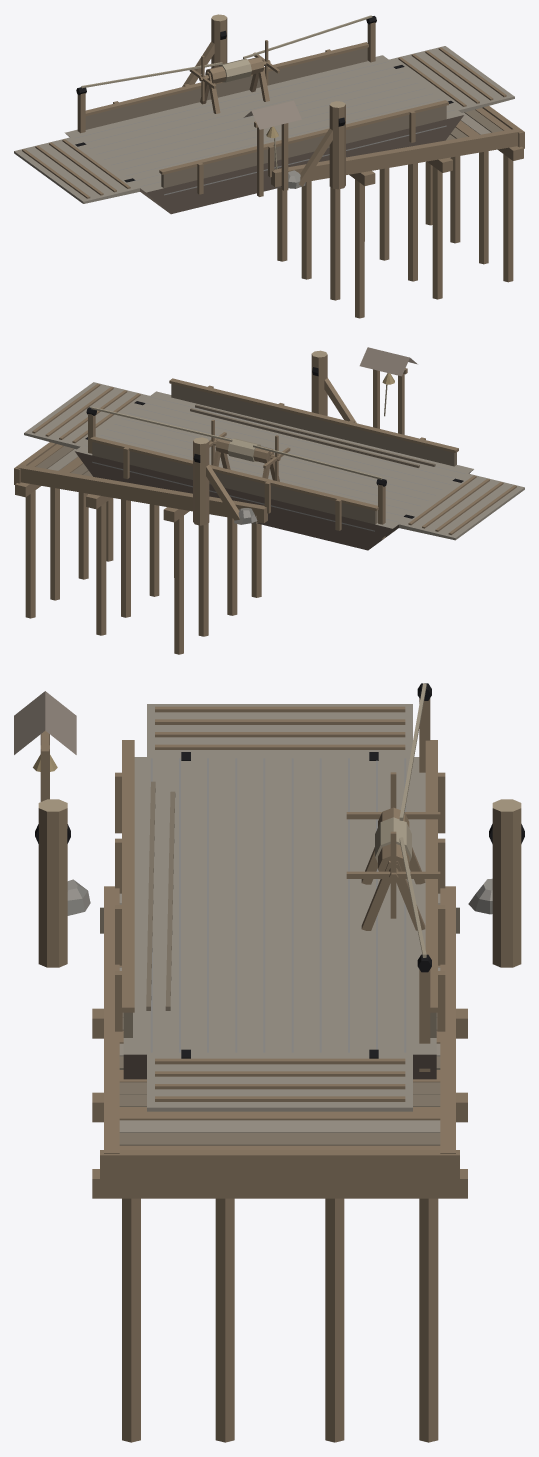
File: wasser_faehre.glb
3 views of the same model, one above another, from view 1: azimuth 30°, elevation 25°; view 2: azimuth 150°, elevation 25°; view 3: azimuth 270°, elevation 25° (orthographic). The views are drawn at different scales.
Visible parts, largest first — view 1: Faehre, Anlegesteg, Klappe_A, Klappe_B; view 2: Faehre, Anlegesteg, Klappe_A, Klappe_B; view 3: Faehre, Anlegesteg, Klappe_B, Klappe_A.
Part boxes in pixels (box(x1,y1,x2,y2)): Faehre: box(64, 15, 463, 214); Anlegesteg: box(182, 14, 524, 318); Klappe_A: box(14, 137, 139, 203); Klappe_B: box(389, 46, 514, 112); Faehre: box(74, 378, 473, 550); Anlegesteg: box(14, 347, 417, 654); Klappe_A: box(399, 473, 524, 540); Klappe_B: box(24, 382, 149, 449); Faehre: box(115, 683, 445, 1079); Anlegesteg: box(14, 691, 524, 1442); Klappe_B: box(147, 1049, 412, 1111); Klappe_A: box(147, 704, 412, 760).
Bounding box in the file's own units: 12.2 × 6.85 × 6.53.
